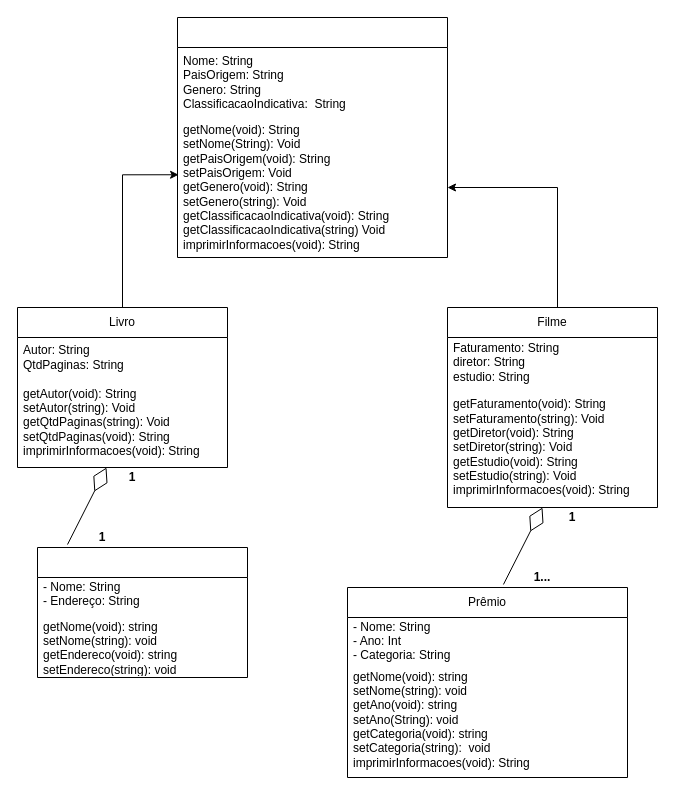
This 675x795 diagram has some shape labels left out. Each missing label, with the box of its shape:
Editora: (36, 546, 248, 678)
Obra: (176, 16, 448, 258)
